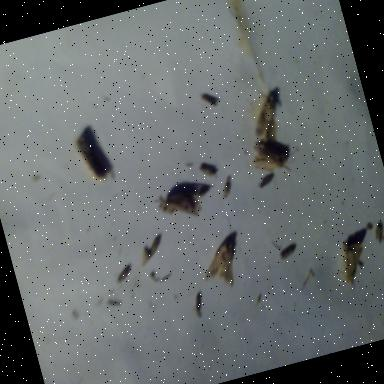abw: (70, 122, 122, 190), (195, 236, 248, 296), (247, 86, 296, 146), (156, 181, 208, 227), (334, 235, 376, 291), (245, 132, 294, 179)
